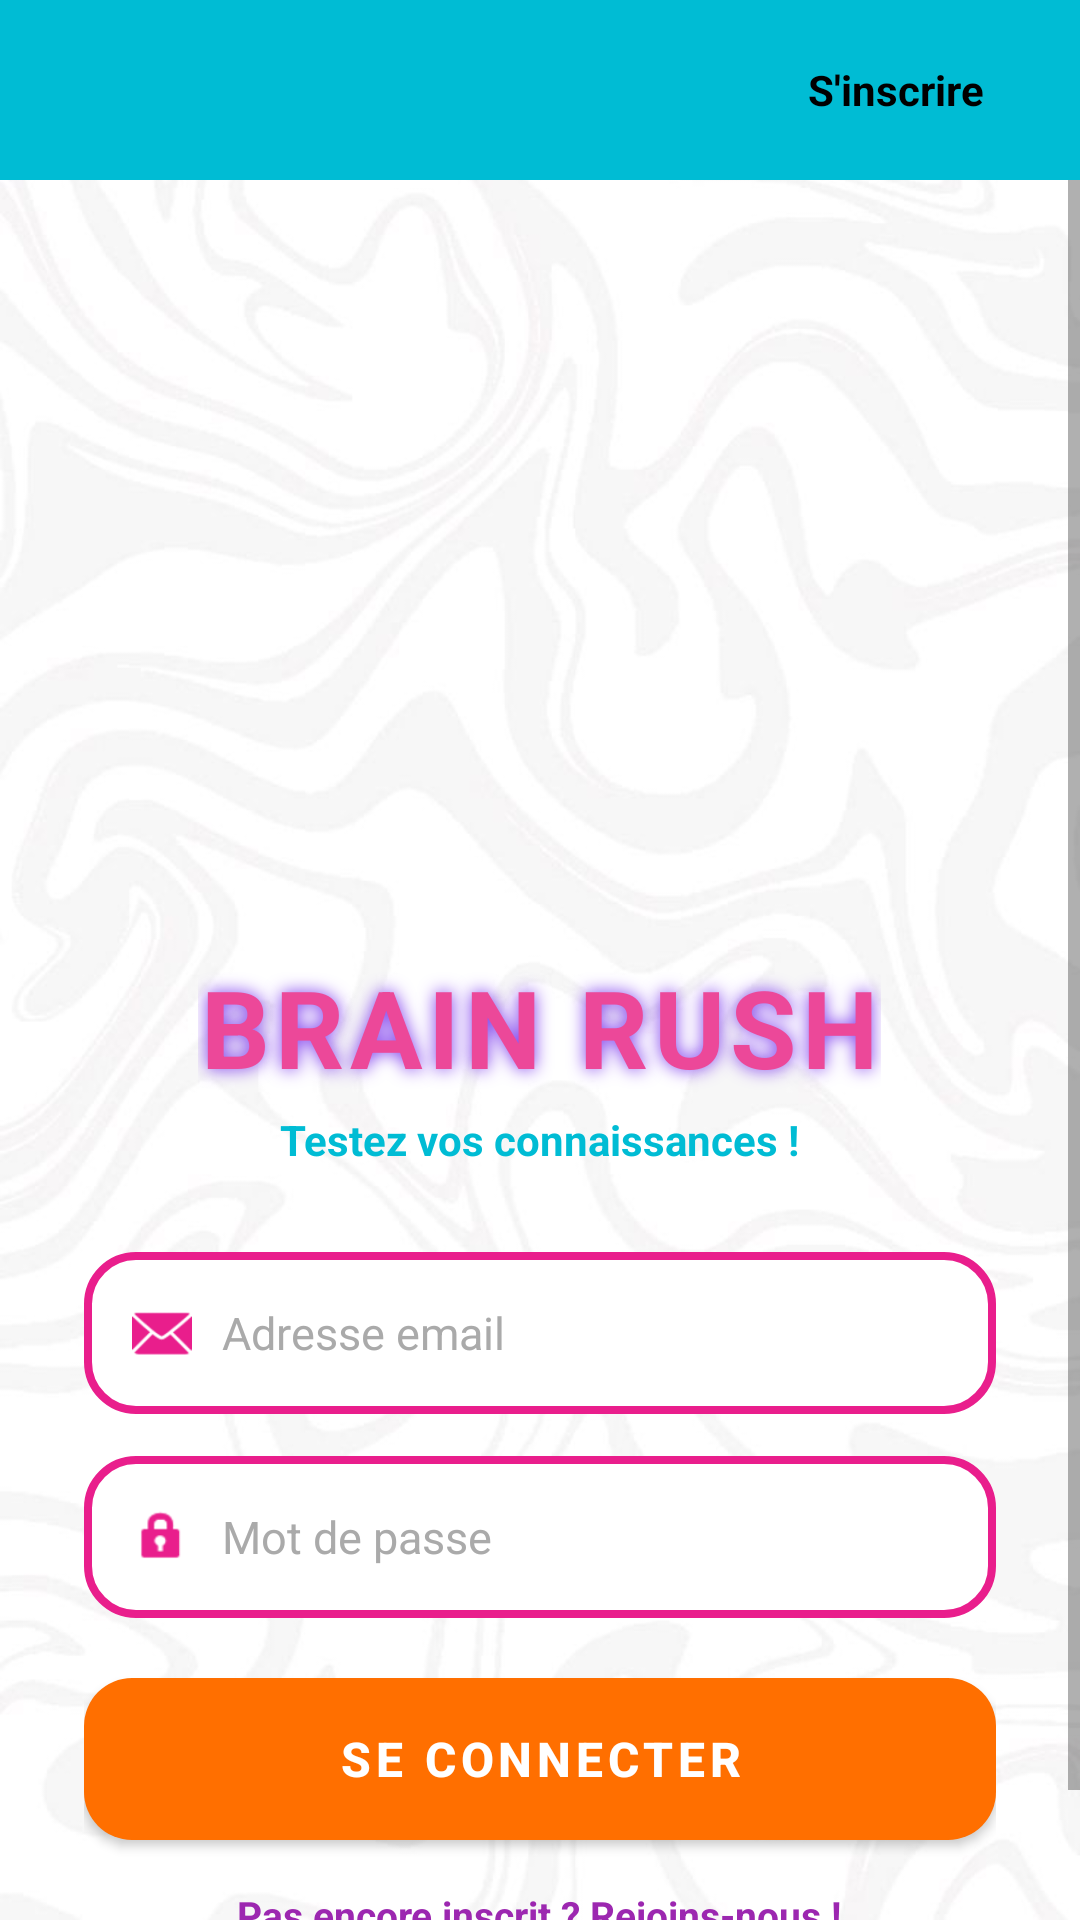

Icons on this 1080px×1920px Android screen, each with its box as bbox=[x1, y1, x2, y2]:
lock idle: bbox=[141, 1512, 180, 1558]
